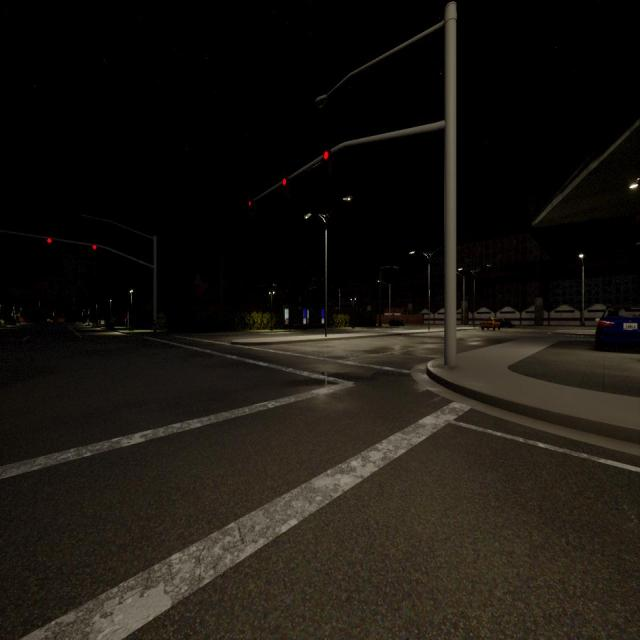Vehicle: (596, 305, 640, 350), (480, 318, 500, 330), (389, 319, 404, 326), (500, 321, 512, 328)
traffic_light: (282, 178, 287, 185), (324, 151, 328, 159), (248, 200, 252, 207), (47, 238, 52, 243), (93, 245, 96, 250)
